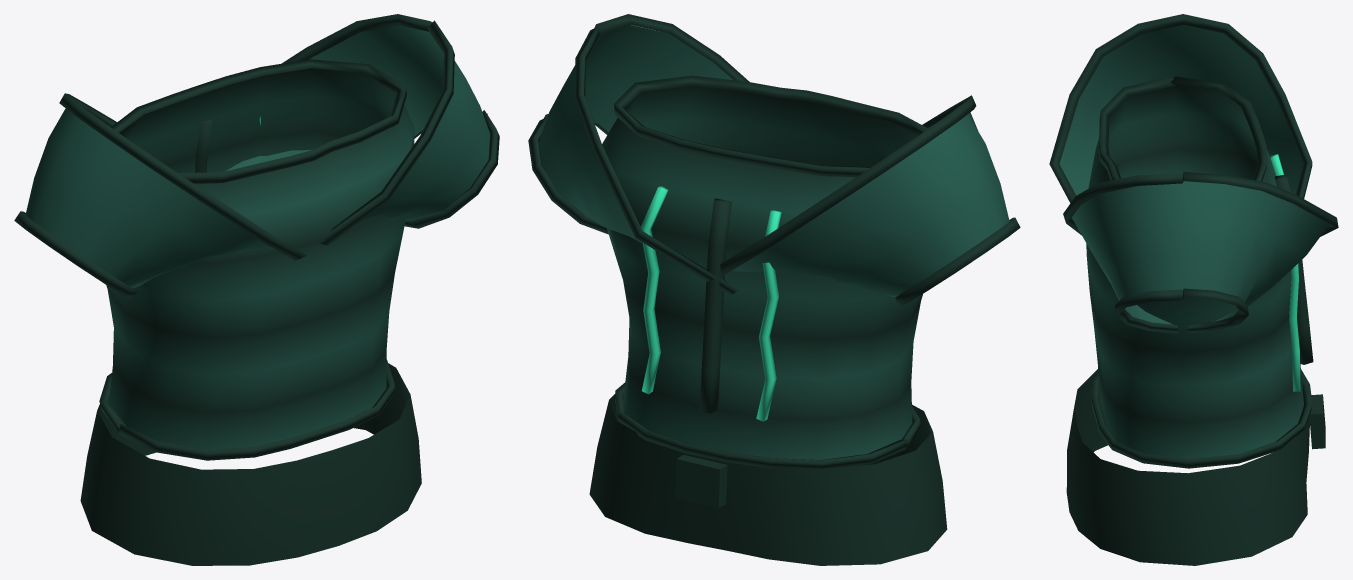
Rendered from vortex_breastplate.glb.
3 renders of one model, left to right at view 1: azimuth 30°, elevation 25°; view 2: azimuth 150°, elevation 25°; view 3: azimuth 270°, elevation 25°, orthographic. The views are drawn at different scales.
Parts seen in each view (by area): view 1: vortex_breastplate_chest; view 2: vortex_breastplate_chest; view 3: vortex_breastplate_chest.
Boxes of the visible parts, box(x1,y1,x2,y2) form: vortex_breastplate_chest: box(14, 14, 499, 565); vortex_breastplate_chest: box(528, 14, 1020, 565); vortex_breastplate_chest: box(1049, 14, 1338, 565).
Bounding box in the file's own units: 0.6477 × 0.592 × 0.3782.
